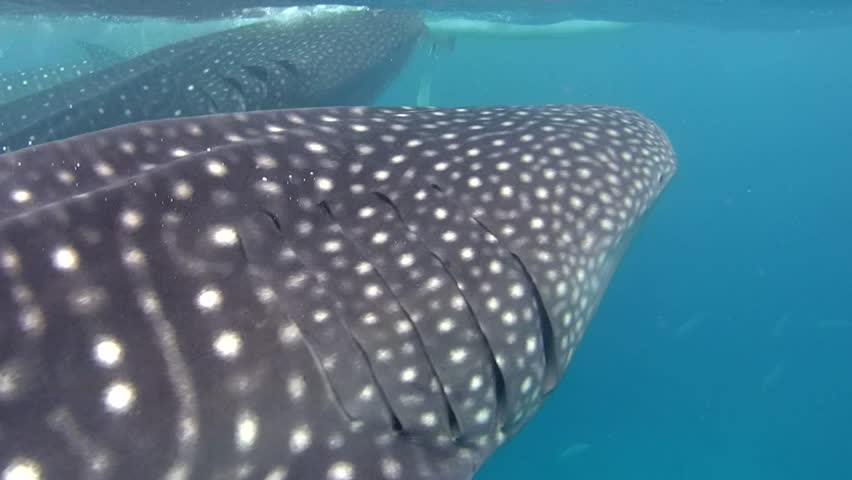Rhincodon_typusw: (21, 95, 685, 480)
